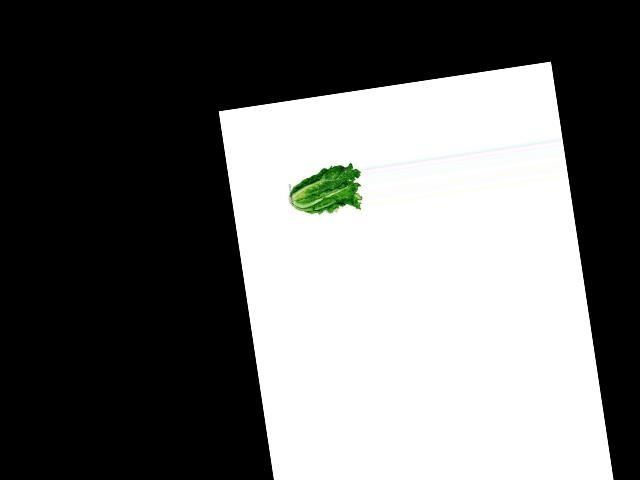lettuce: (286, 161, 366, 220)
